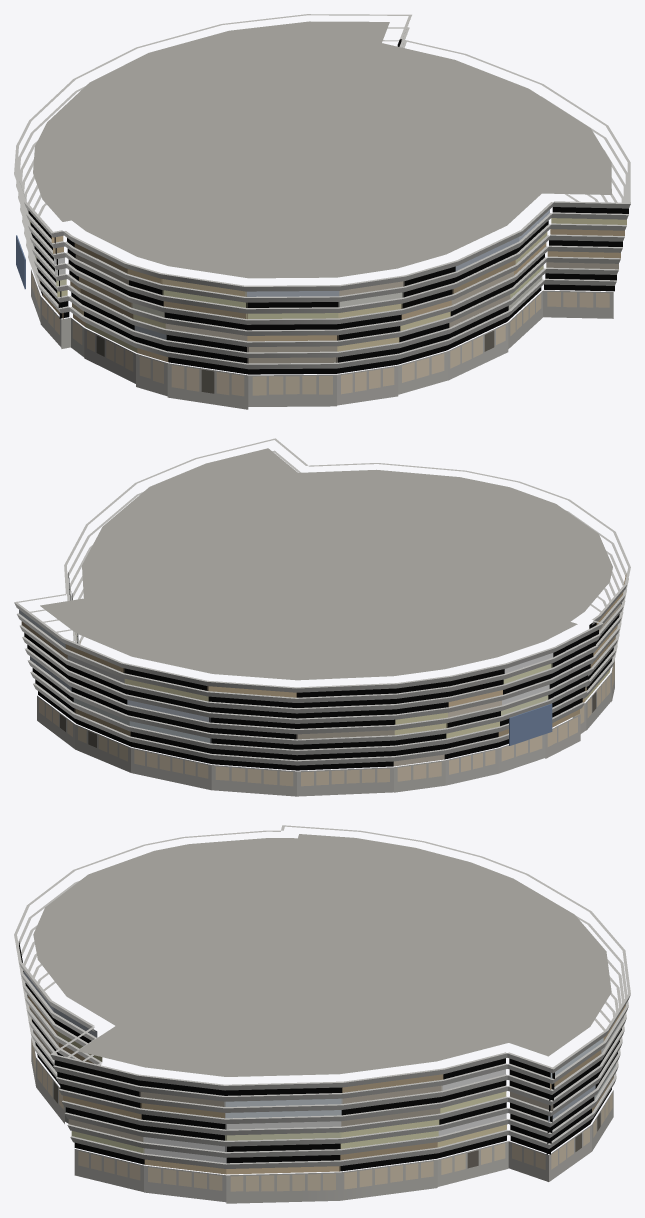
The model's file is chase_lod1.glb.
3 views of the same model, one above another, from view 1: azimuth 30°, elevation 25°; view 2: azimuth 150°, elevation 25°; view 3: azimuth 270°, elevation 25° (orthographic). The views are drawn at different scales.
Parts seen in each view (by area): view 1: L1_roof, L1_paint, L1_win, L1_concrete, L1_shop; view 2: L1_roof, L1_paint, L1_win, L1_concrete, L1_shop, L1_neon; view 3: L1_roof, L1_paint, L1_win, L1_concrete, L1_shop.
Part boxes in pixels (box(x1,y1,x2,y2)): L1_roof: box(33, 21, 611, 278); L1_paint: box(14, 14, 630, 369); L1_win: box(27, 39, 628, 374); L1_concrete: box(31, 269, 613, 409); L1_shop: box(31, 273, 609, 396); L1_roof: box(40, 448, 612, 680); L1_paint: box(14, 438, 630, 765); L1_win: box(19, 572, 626, 770); L1_concrete: box(37, 660, 614, 796); L1_shop: box(39, 661, 614, 786); L1_neon: box(509, 703, 552, 745); L1_roof: box(33, 834, 611, 1076); L1_paint: box(14, 825, 630, 1168); L1_win: box(19, 941, 625, 1174); L1_concrete: box(31, 1038, 613, 1203); L1_shop: box(31, 1039, 612, 1191).
Size of the model in its own units: 168 by 39.67 by 168.
